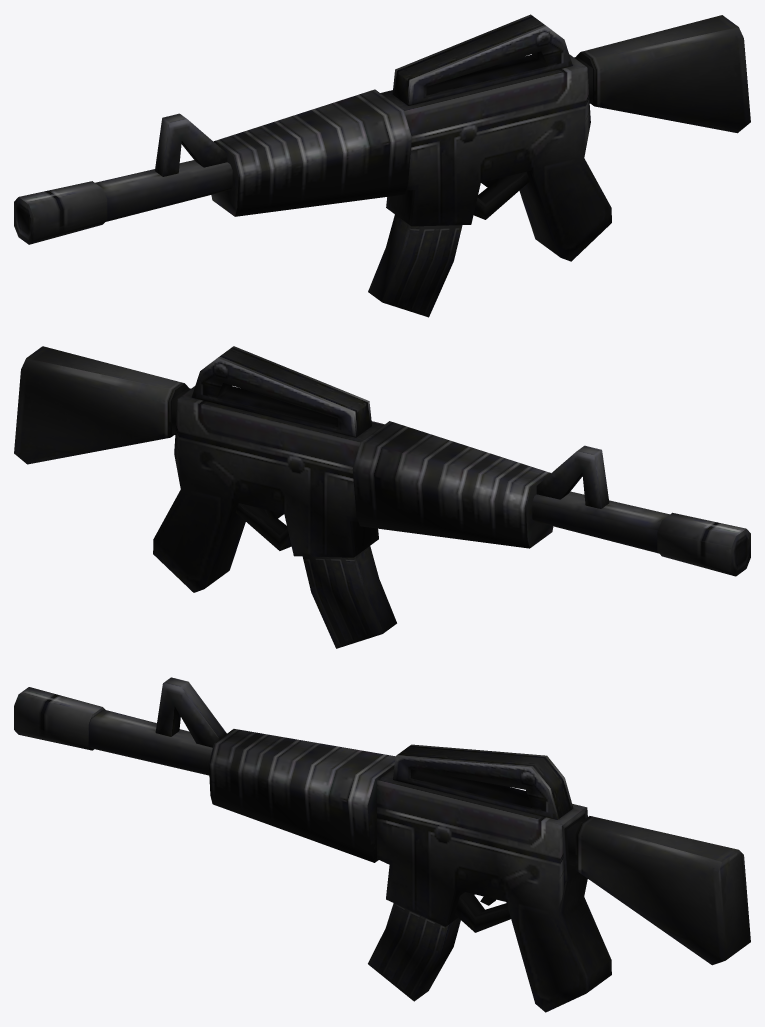
The picture shows the model from 3 angles, top to bottom: view 1: azimuth 30°, elevation 25°; view 2: azimuth 150°, elevation 25°; view 3: azimuth 330°, elevation 25°; orthographic projection.
Parts seen in each view (by area): view 1: Weapon_Rifle_M16, Weapon_Rifle_M16.001; view 2: Weapon_Rifle_M16, Weapon_Rifle_M16.001; view 3: Weapon_Rifle_M16, Weapon_Rifle_M16.001.
Part boxes in pixels (bbox=[...]): Weapon_Rifle_M16: bbox=[14, 14, 750, 261]; Weapon_Rifle_M16.001: bbox=[368, 214, 462, 317]; Weapon_Rifle_M16: bbox=[14, 346, 750, 592]; Weapon_Rifle_M16.001: bbox=[302, 546, 396, 648]; Weapon_Rifle_M16: bbox=[14, 677, 750, 1012]; Weapon_Rifle_M16.001: bbox=[368, 903, 460, 1001].
Size of the model in its own units: 141 by 49.46 by 15.24.
